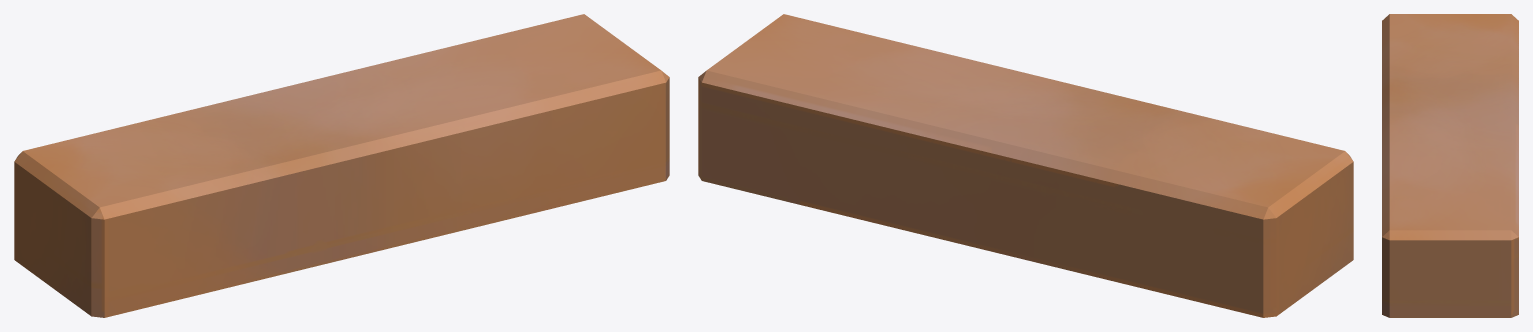
File: button_wide.glb
3 views of the same model, side by side, from view 1: azimuth 30°, elevation 25°; view 2: azimuth 150°, elevation 25°; view 3: azimuth 270°, elevation 25° (orthographic). The views are drawn at different scales.
Parts seen in each view (by area): view 1: Button_Wide; view 2: Button_Wide; view 3: Button_Wide.
Part boxes in pixels (left/top/right/bottom): Button_Wide: left=14, top=14, right=669, bottom=317; Button_Wide: left=698, top=14, right=1353, bottom=317; Button_Wide: left=1382, top=14, right=1518, bottom=317.
Bounding box in the file's own units: 5.43 × 0.9611 × 1.41.
1 material, 1 textured.
